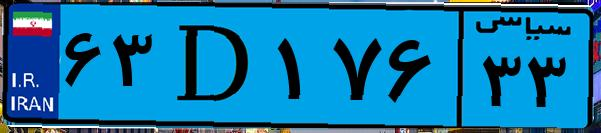1: (270, 28, 330, 110)
3: (475, 38, 525, 113), (525, 38, 570, 115), (110, 28, 158, 98)
6: (385, 28, 445, 110), (57, 26, 110, 100)
7: (330, 28, 385, 110)
D: (158, 12, 270, 120)
